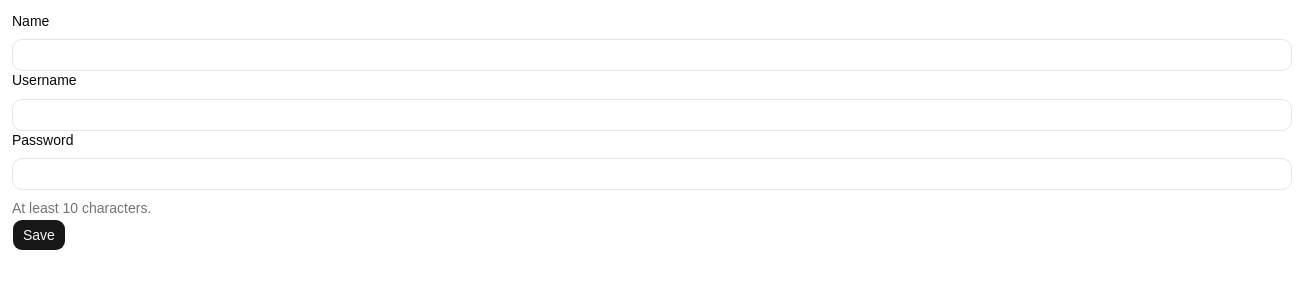
form pattern › maps server field errors onto fields
Type "Sam" into the field labelled "Name".
click(652, 55); type("Sam")  # box [12,39,1292,71]
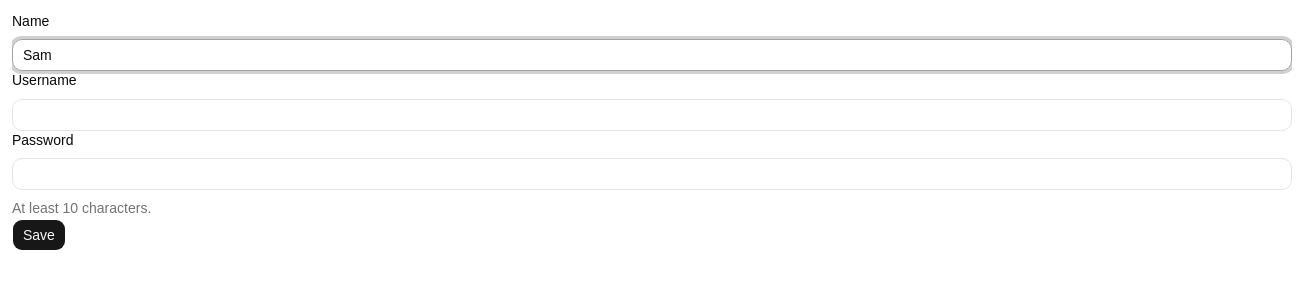
Type "kali" into the field labelled "Username".
click(652, 114); type("kali")  # box [12,98,1292,130]
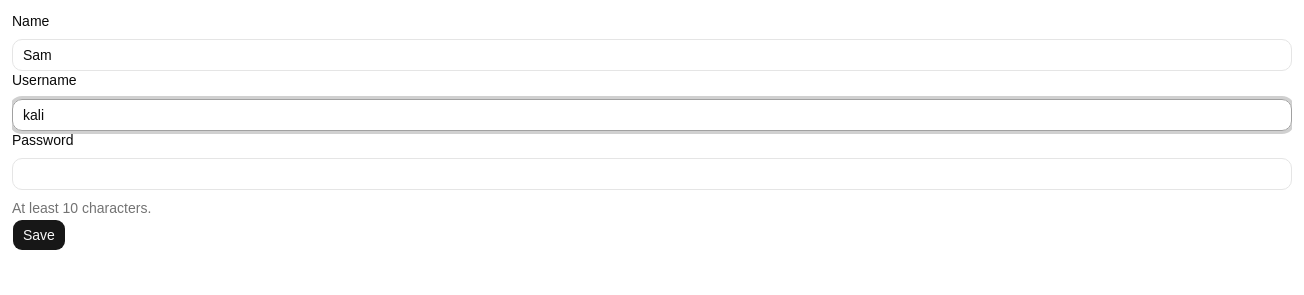
Type "long-enough-pw" into the password field labelled "Password".
click(652, 174); type("long-enough-pw")  # box [12,158,1292,190]
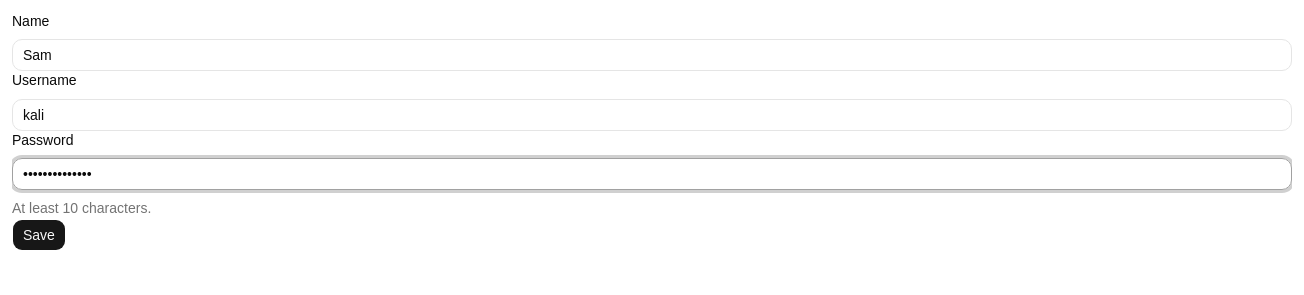
Click the button "Save".
click(39, 235)  # box [12,219,66,251]
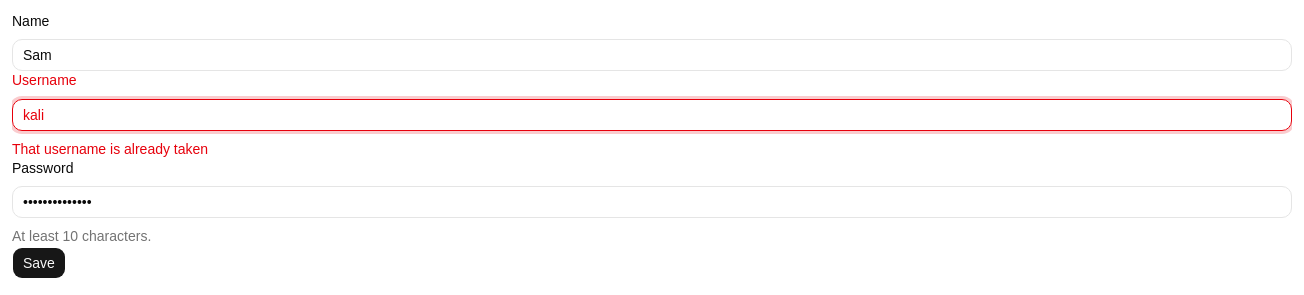
Result: the text "That username is already taken" is shown at [12,140,208,156]
